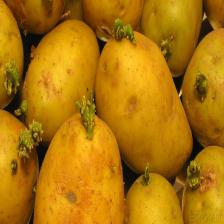potato: (95, 18, 194, 178), (32, 111, 124, 224), (22, 18, 100, 145), (182, 27, 224, 148), (0, 108, 39, 224), (124, 162, 184, 224)
